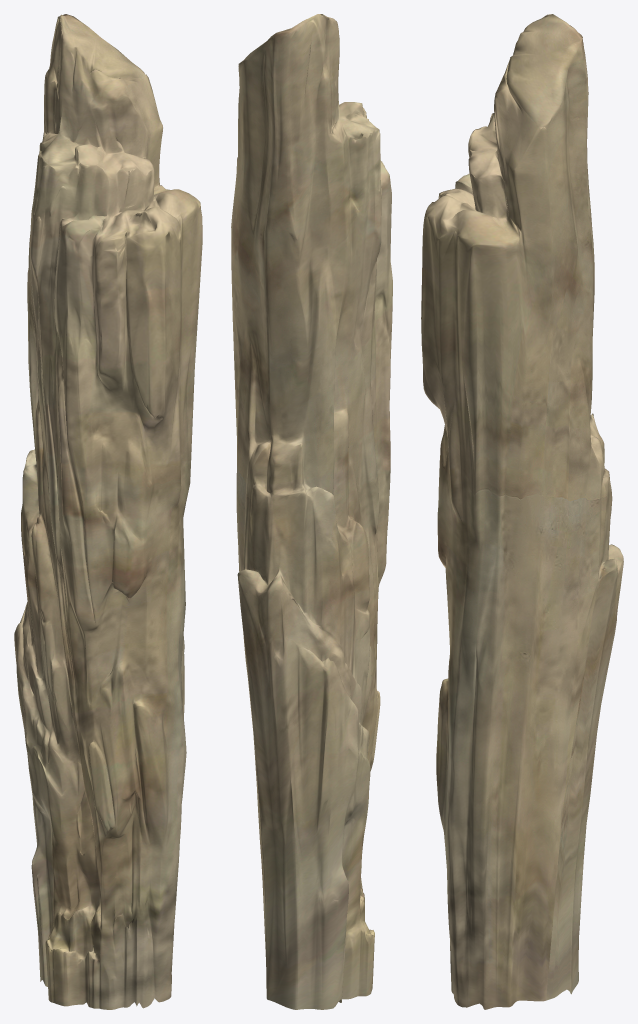
File: jinshuni_4.fbx
The picture shows the model from 3 angles, left to right: view 1: azimuth 30°, elevation 25°; view 2: azimuth 150°, elevation 25°; view 3: azimuth 270°, elevation 25°; orthographic projection. The views are drawn at different scales.
Parts seen in each view (by area): view 1: polySurface23; view 2: polySurface23; view 3: polySurface23.
Part boxes in pixels (bbox=[...]): polySurface23: bbox=[14, 14, 202, 1009]; polySurface23: bbox=[231, 14, 392, 1009]; polySurface23: bbox=[421, 14, 623, 1009].
Bounding box in the file's own units: 10.33 × 63.21 × 12.08.
Materials: 1 (1 with a texture image).
